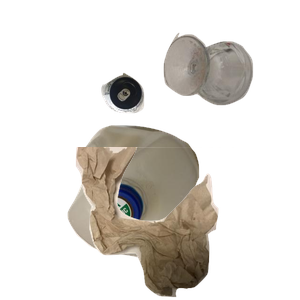glass: (161, 30, 300, 128)
metal: (99, 70, 236, 176)
plastic: (65, 123, 257, 300)
trash: (73, 147, 300, 300)
